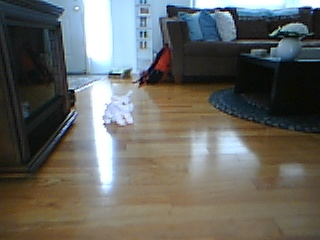piggy: (101, 89, 136, 128)
